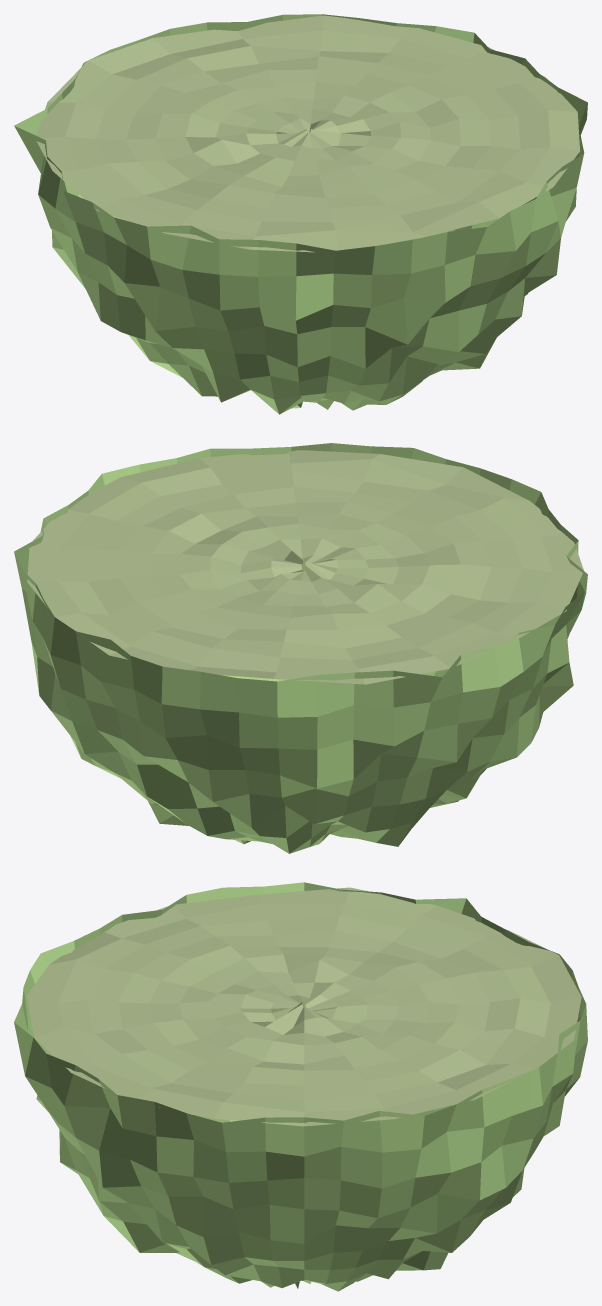
Rendered from simplePlatform.fbx.
The picture shows the model from 3 angles, top to bottom: view 1: azimuth 30°, elevation 25°; view 2: azimuth 150°, elevation 25°; view 3: azimuth 270°, elevation 25°; orthographic projection. The views are drawn at different scales.
Parts seen in each view (by area): view 1: SueloVerde, Tierra; view 2: SueloVerde, Tierra; view 3: SueloVerde, Tierra.
Boxes of the visible parts, <box> form: SueloVerde: <box>36,15,579,252</box>; Tierra: <box>14,14,587,414</box>; SueloVerde: <box>27,450,583,684</box>; Tierra: <box>14,443,587,853</box>; SueloVerde: <box>27,887,581,1126</box>; Tierra: <box>14,882,587,1291</box>.
Size of the model in its own units: 2069 by 1092 by 2089.
